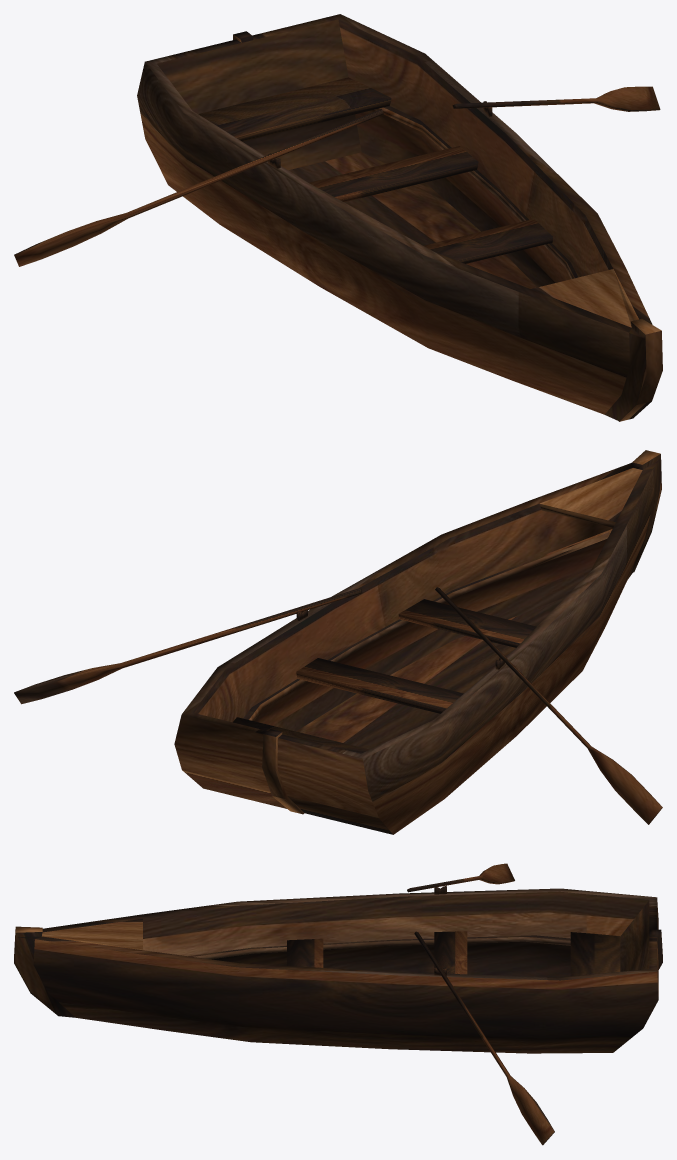
Rendered from boat.obj.
3 views of the same model, one above another, from view 1: azimuth 30°, elevation 25°; view 2: azimuth 150°, elevation 25°; view 3: azimuth 270°, elevation 25° (orthographic). The views are drawn at different scales.
Visible parts, largest first — view 1: boat; view 2: boat; view 3: boat.
Boxes of the visible parts, bbox=[...] form: boat: bbox=[14, 14, 662, 421]; boat: bbox=[14, 450, 662, 834]; boat: bbox=[14, 863, 662, 1145].
Bounding box in the file's own units: 56.98 × 12.42 × 61.34.
1 material, 1 textured.
